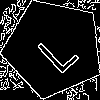L: (28, 23, 81, 76)
